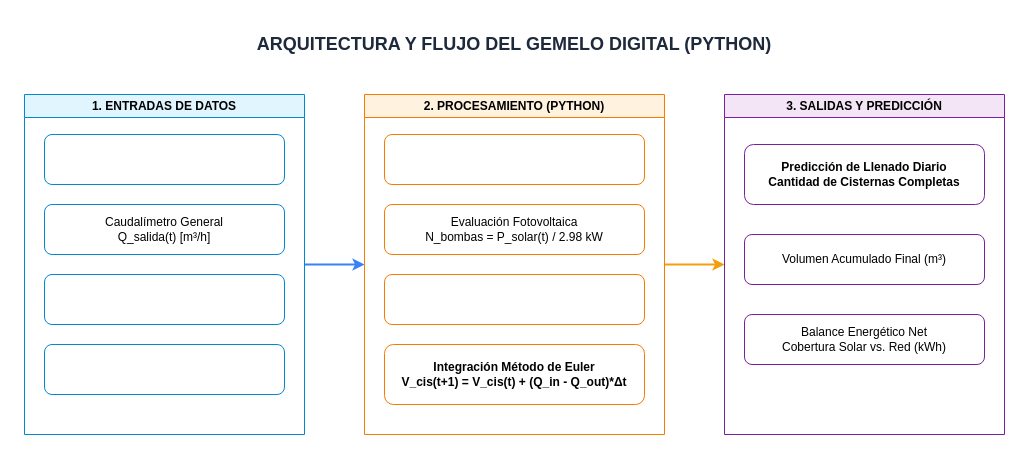
Some shapes in this 1022 by 452 pixel diagram are drawn without their labels. Each missing label, with the centre of its shape:
Cálculo Ingreso Hidráulico Q_ingreso(t) = N_bombas * 8 m³/h: the point at 514,299
Estimación de Volumen Actual V_actual = Σ(5 Cisternas) Extrapolado: the point at 514,159
Nivel en Tiempo Real 5 Cisternas Instrumentadas (m³): the point at 164,299
P_solar(t) [8760 hs] (PVGIS / pvlib): the point at 164,159
Parámetros Físicos 75.5 HP (56.3 kW) | 1400 m³ Total: the point at 164,369
